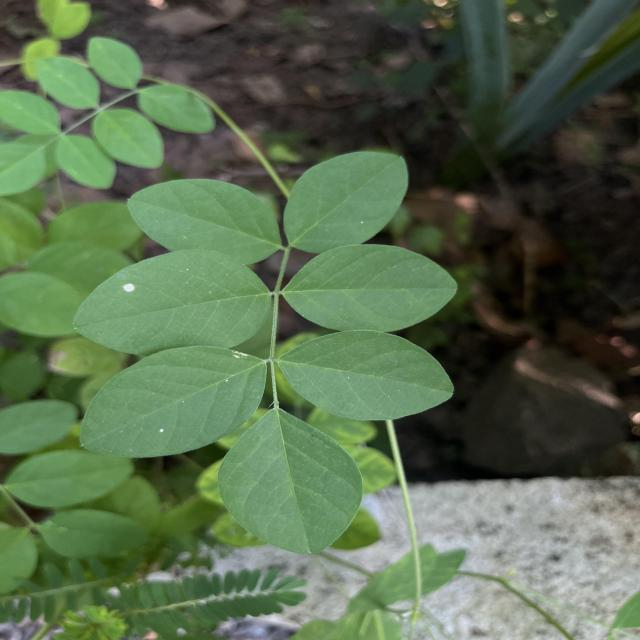Clitoria ternatea: (216, 406, 364, 556), (78, 344, 269, 460), (72, 248, 272, 358), (276, 328, 457, 422), (282, 242, 460, 334), (126, 177, 282, 268), (282, 150, 410, 256)
